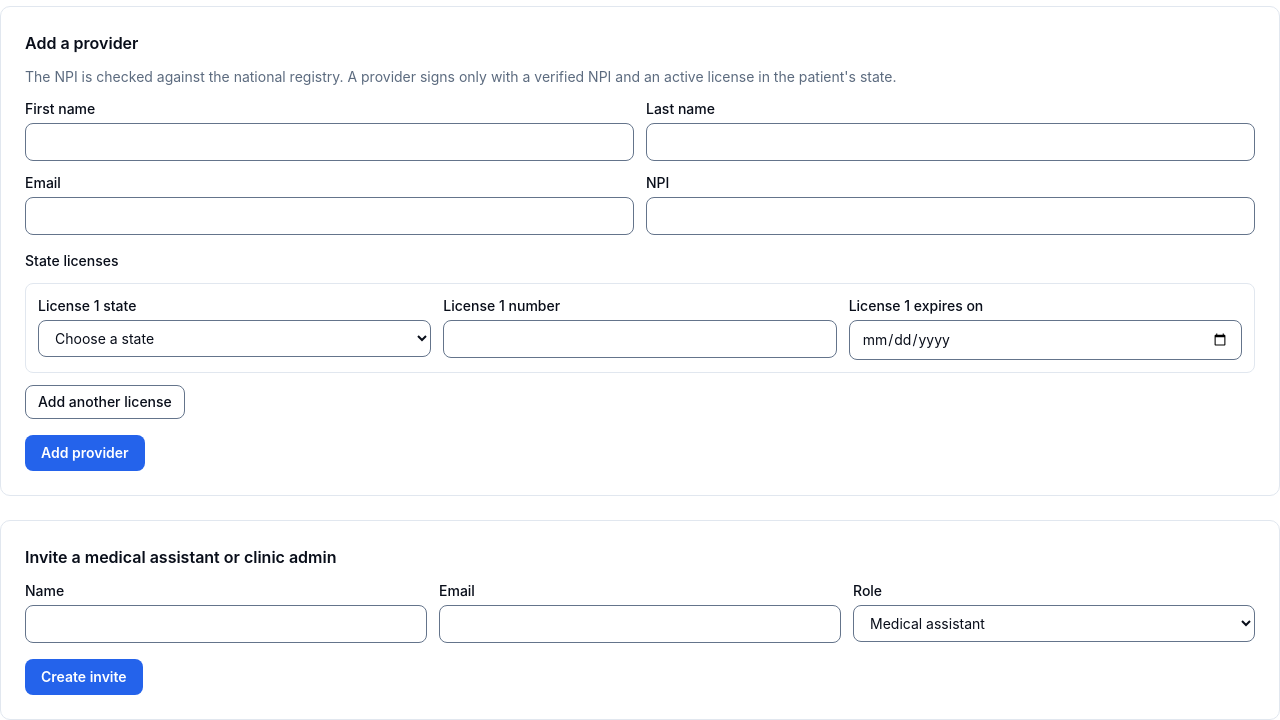
Test case: the clinic admin › invite a medical assistant or clinic admin: name, email, role; the link to copy
The width and height of the screenshot is (1280, 720).
(page scrolled)
Type "Ada Second" into the field labelled "Name".
click(226, 624); type("Ada Second")  # box [25,605,427,643]
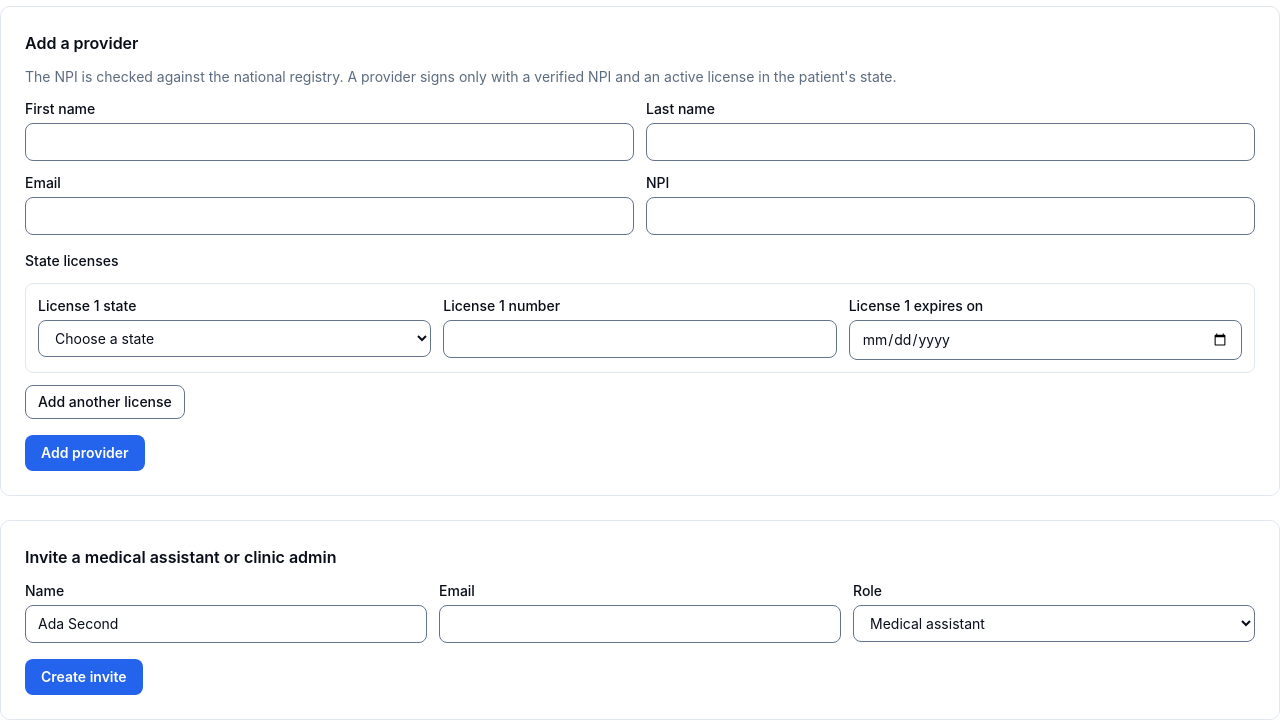
Type "ada@sunrise.test" into the 2nd field labelled "Email".
click(640, 624); type("ada@sunrise.test")  # box [439,605,841,643]
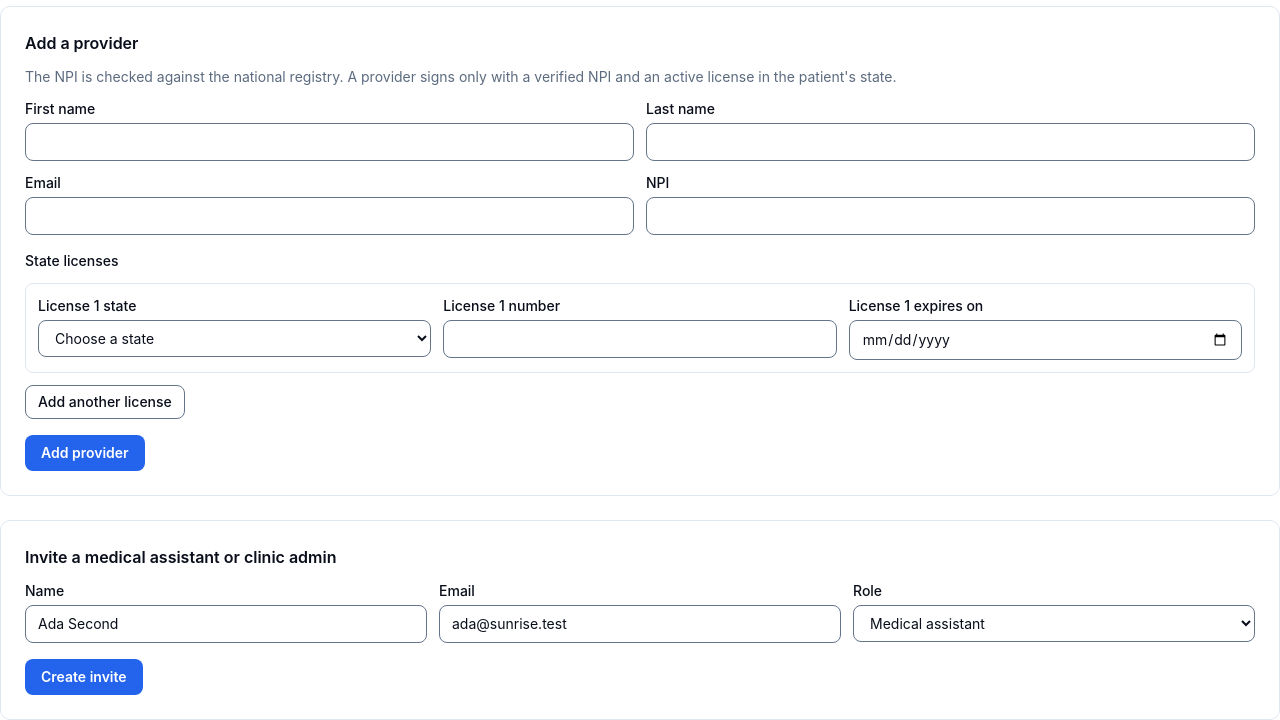
Select "Clinic admin" in the dropdown labelled "Role" at x=1054, y=624, box [853,605,1255,642]
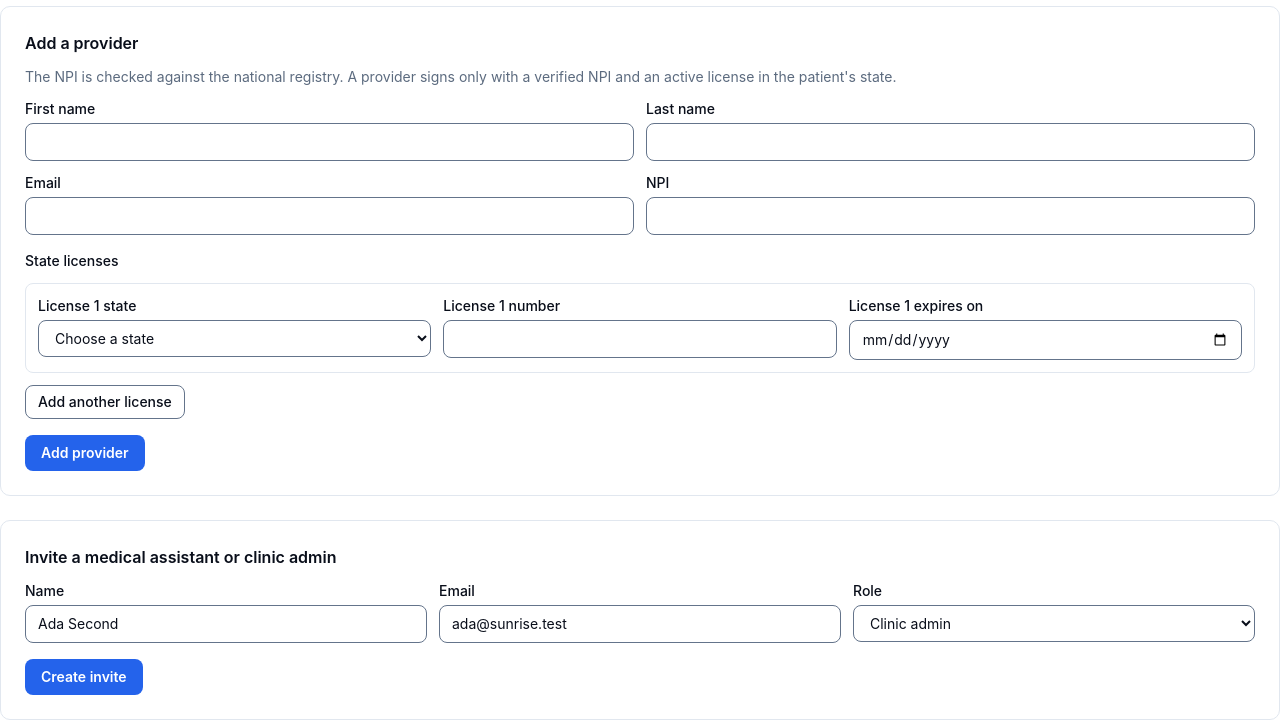
Click the button "Create invite".
click(84, 677)  # box [25,659,143,695]
(page scrolled)
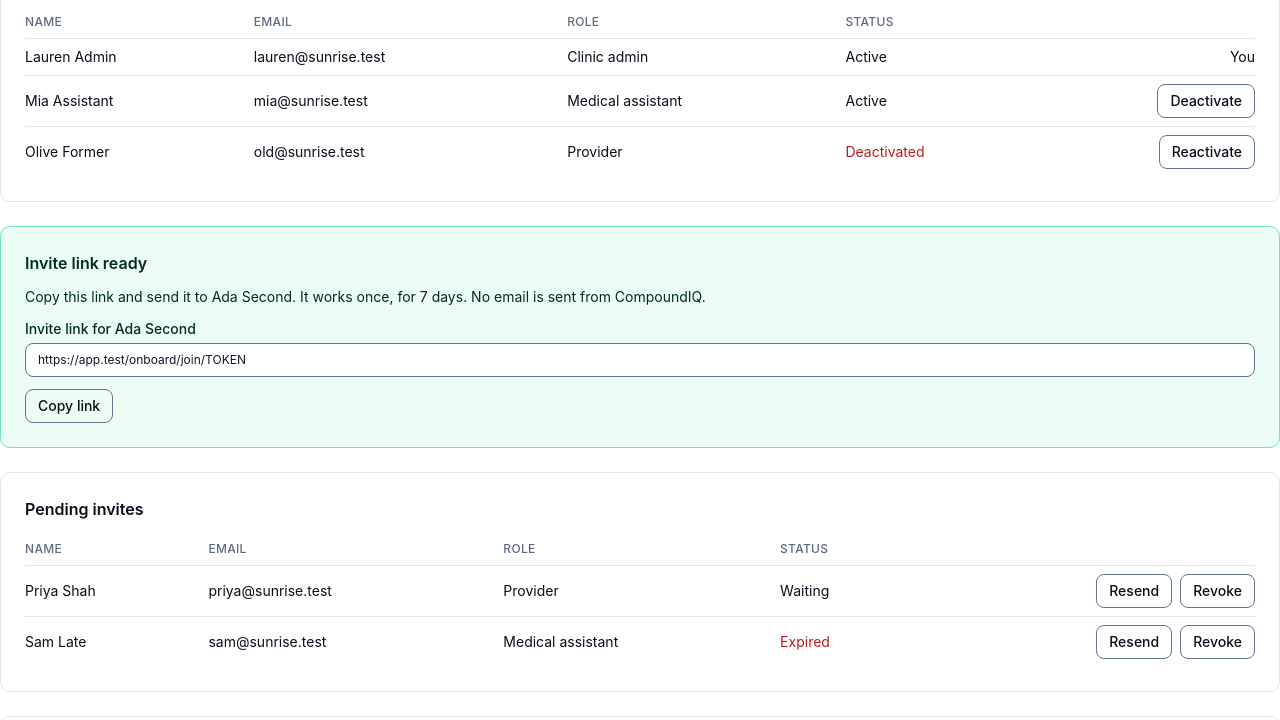
expect the field labelled "Invite link for Ada Second" holds "https://app.test/onboard/join/TOKEN": met, box [25,343,1255,377]
